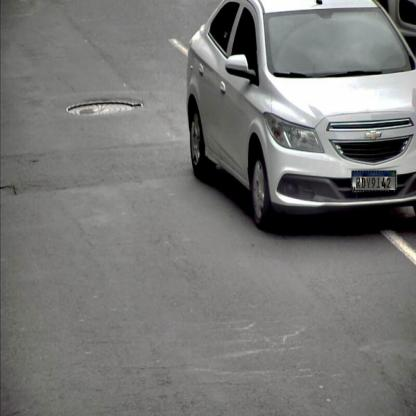PlacaM: (352, 170, 396, 192)
